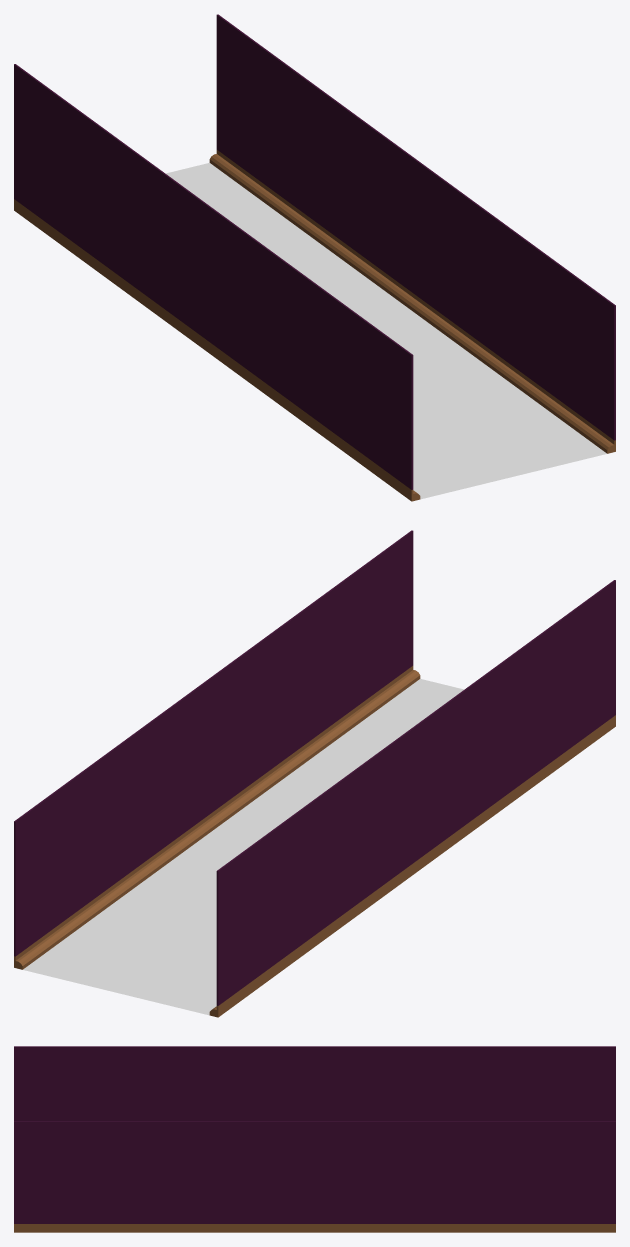
Rendered from Escenario.fbx.
The picture shows the model from 3 angles, top to bottom: view 1: azimuth 30°, elevation 25°; view 2: azimuth 150°, elevation 25°; view 3: azimuth 270°, elevation 25°; orthographic projection. The views are drawn at different scales.
Parts seen in each view (by area): view 1: Pared, Suelo, Guardapolvo; view 2: Pared, Suelo, Guardapolvo; view 3: Pared, Guardapolvo.
Boxes of the visible parts, x1,y1,x2,y2 form: Pared: [14, 14, 615, 489]; Suelo: [165, 163, 606, 499]; Guardapolvo: [14, 150, 615, 501]; Pared: [14, 530, 615, 1005]; Suelo: [23, 679, 464, 1015]; Guardapolvo: [14, 666, 615, 1017]; Pared: [14, 1046, 615, 1223]; Guardapolvo: [14, 1224, 615, 1232].
Bounding box in the file's own units: 2902 × 1985 × 9783.
